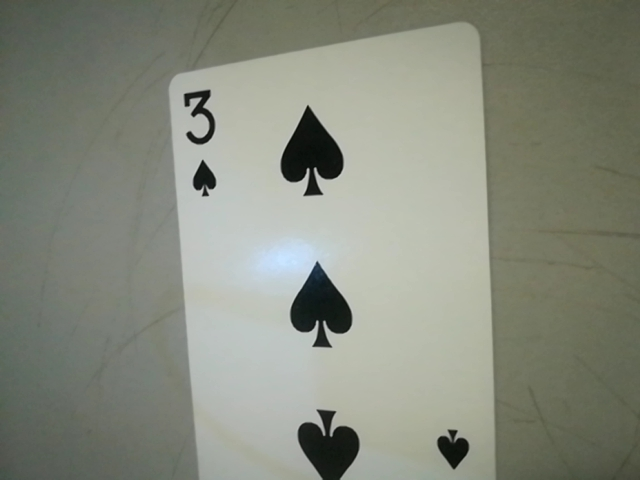ht 3: (171, 81, 229, 205)
